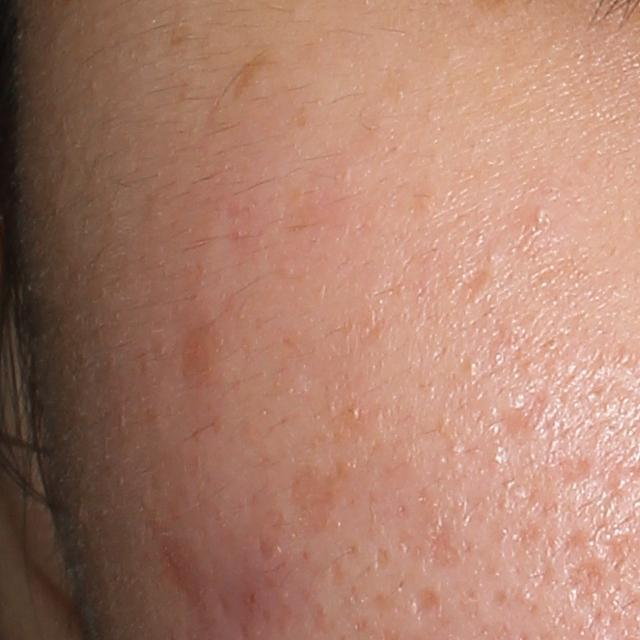atrophic_scar: (426, 509, 463, 575), (565, 557, 606, 611), (453, 265, 496, 305), (552, 454, 595, 487), (498, 405, 529, 446), (410, 583, 442, 621)
melasma: (287, 464, 341, 539), (232, 51, 276, 108)
